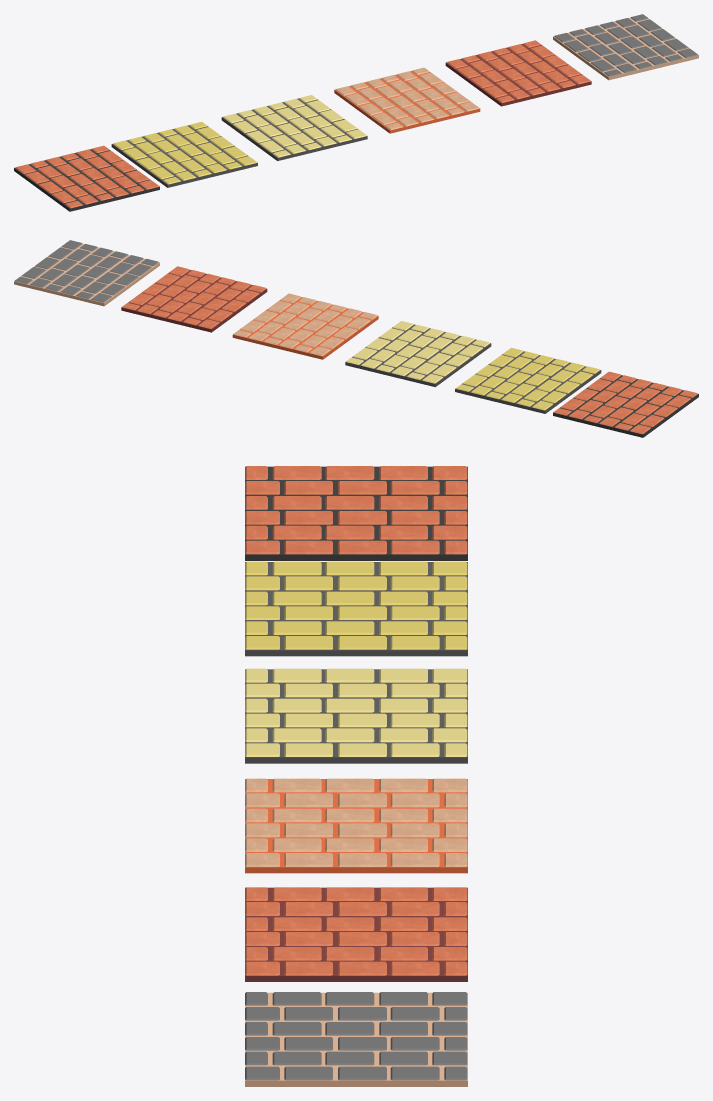
The model's file is cobblestonbases.fbx.
3 views of the same model, one above another, from view 1: azimuth 30°, elevation 25°; view 2: azimuth 150°, elevation 25°; view 3: azimuth 270°, elevation 25° (orthographic). The views are drawn at different scales.
Parts seen in each view (by area): view 1: darkorange_cobblestone, blue_cobblestone, darkgray_cobblestone, orange_cobblestone, white_cobblestone, gray_cobblestone, base_orange_cobblestone (×2), base_blue_cobblestone, base_gray_cobblestone, base_darkgray_cobblestone .001, base_darkorange_cobblestone; view 2: darkorange_cobblestone, gray_cobblestone, blue_cobblestone, white_cobblestone, darkgray_cobblestone, orange_cobblestone, base_orange_cobblestone (×2), base_gray_cobblestone, base_darkorange_cobblestone, base_darkgray_cobblestone .001, base_blue_cobblestone; view 3: blue_cobblestone, gray_cobblestone, white_cobblestone, orange_cobblestone, darkgray_cobblestone, darkorange_cobblestone, base_orange_cobblestone (×2), base_blue_cobblestone, base_darkgray_cobblestone .001, base_gray_cobblestone, base_darkorange_cobblestone.
Boxes of the visible parts, x1,y1,x2,y2 form: darkorange_cobblestone: (447, 40, 590, 102); blue_cobblestone: (223, 95, 366, 157); darkgray_cobblestone: (554, 14, 697, 76); orange_cobblestone: (15, 145, 159, 208); white_cobblestone: (113, 121, 257, 184); gray_cobblestone: (335, 67, 479, 129); base_orange_cobblestone (×2): (14, 125, 257, 211); base_blue_cobblestone: (221, 98, 367, 160); base_gray_cobblestone: (334, 71, 480, 133); base_darkgray_cobblestone .001: (553, 17, 698, 80); base_darkorange_cobblestone: (445, 44, 591, 106); darkorange_cobblestone: (122, 266, 266, 328); gray_cobblestone: (233, 293, 377, 355); blue_cobblestone: (346, 321, 489, 383); white_cobblestone: (456, 347, 599, 410); darkgray_cobblestone: (15, 240, 158, 302); orange_cobblestone: (553, 371, 697, 433); base_orange_cobblestone (×2): (455, 351, 698, 437); base_gray_cobblestone: (232, 297, 378, 359); base_darkorange_cobblestone: (121, 270, 267, 332); base_darkgray_cobblestone .001: (14, 243, 159, 306); base_blue_cobblestone: (345, 324, 491, 387); blue_cobblestone: (245, 668, 467, 756); gray_cobblestone: (245, 778, 467, 866); white_cobblestone: (245, 561, 467, 649); orange_cobblestone: (245, 466, 467, 554); darkgray_cobblestone: (245, 992, 467, 1080); darkorange_cobblestone: (245, 887, 467, 975); base_orange_cobblestone (×2): (245, 466, 467, 656); base_blue_cobblestone: (245, 669, 467, 763); base_darkgray_cobblestone .001: (245, 992, 467, 1086); base_gray_cobblestone: (245, 779, 467, 873); base_darkorange_cobblestone: (245, 887, 467, 981).
Size of the model in its own units: 6347 by 39.04 by 975.
